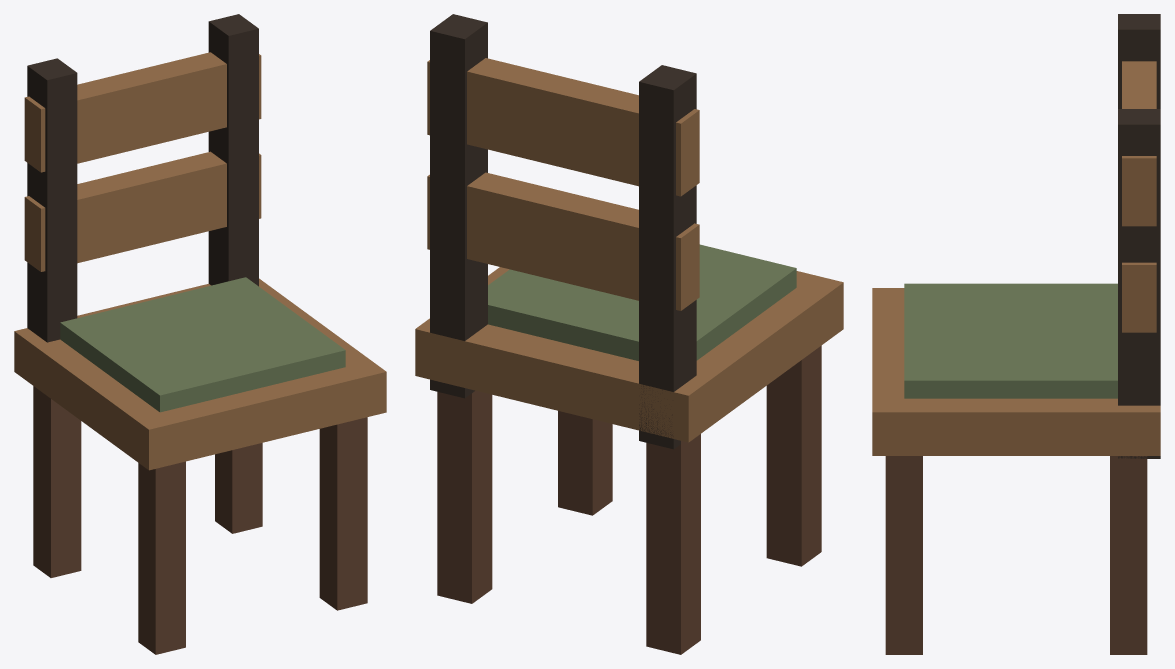
Rendered from Decor_Chair.glb.
3 views of the same model, side by side, from view 1: azimuth 30°, elevation 25°; view 2: azimuth 150°, elevation 25°; view 3: azimuth 270°, elevation 25° (orthographic). The views are drawn at different scales.
Visible parts, largest first — view 1: _MeshInstance3D_4303, _MeshInstance3D_4308, _MeshInstance3D_4307, _MeshInstance3D_4306, _MeshInstance3D_4304, _MeshInstance3D_4305, _MeshInstance3D_4302, _MeshInstance3D_4300, _MeshInstance3D_4299, _MeshInstance3D_4301; view 2: _MeshInstance3D_4303, _MeshInstance3D_4306, _MeshInstance3D_4307, _MeshInstance3D_4304, _MeshInstance3D_4308, _MeshInstance3D_4305, _MeshInstance3D_4301, _MeshInstance3D_4299, _MeshInstance3D_4300, _MeshInstance3D_4302; view 3: _MeshInstance3D_4308, _MeshInstance3D_4303, _MeshInstance3D_4305, _MeshInstance3D_4302, _MeshInstance3D_4301, _MeshInstance3D_4307, _MeshInstance3D_4304, _MeshInstance3D_4306.
Boxes of the visible parts, <box> form: _MeshInstance3D_4303: <box>14,278,386,470</box>; _MeshInstance3D_4308: <box>60,277,345,412</box>; _MeshInstance3D_4307: <box>24,52,261,172</box>; _MeshInstance3D_4306: <box>24,151,261,271</box>; _MeshInstance3D_4304: <box>27,58,77,342</box>; _MeshInstance3D_4305: <box>208,14,258,286</box>; _MeshInstance3D_4302: <box>319,417,367,610</box>; _MeshInstance3D_4300: <box>138,461,185,654</box>; _MeshInstance3D_4299: <box>33,386,81,577</box>; _MeshInstance3D_4301: <box>215,443,262,533</box>; _MeshInstance3D_4303: <box>415,267,843,442</box>; _MeshInstance3D_4306: <box>427,172,699,310</box>; _MeshInstance3D_4307: <box>427,58,699,196</box>; _MeshInstance3D_4304: <box>639,65,696,449</box>; _MeshInstance3D_4308: <box>488,244,796,360</box>; _MeshInstance3D_4305: <box>430,14,487,398</box>; _MeshInstance3D_4301: <box>437,390,492,603</box>; _MeshInstance3D_4299: <box>646,434,700,654</box>; _MeshInstance3D_4300: <box>766,345,821,566</box>; _MeshInstance3D_4302: <box>558,411,612,515</box>; _MeshInstance3D_4308: <box>904,283,1117,398</box>; _MeshInstance3D_4303: <box>872,288,1160,455</box>; _MeshInstance3D_4305: <box>1118,109,1160,458</box>; _MeshInstance3D_4302: <box>885,456,922,654</box>; _MeshInstance3D_4301: <box>1110,456,1147,654</box>; _MeshInstance3D_4307: <box>1122,61,1156,226</box>; _MeshInstance3D_4304: <box>1118,14,1160,108</box>; _MeshInstance3D_4306: <box>1122,262,1156,332</box>.
Size of the model in its own units: 0.55 by 1.09 by 0.54.
